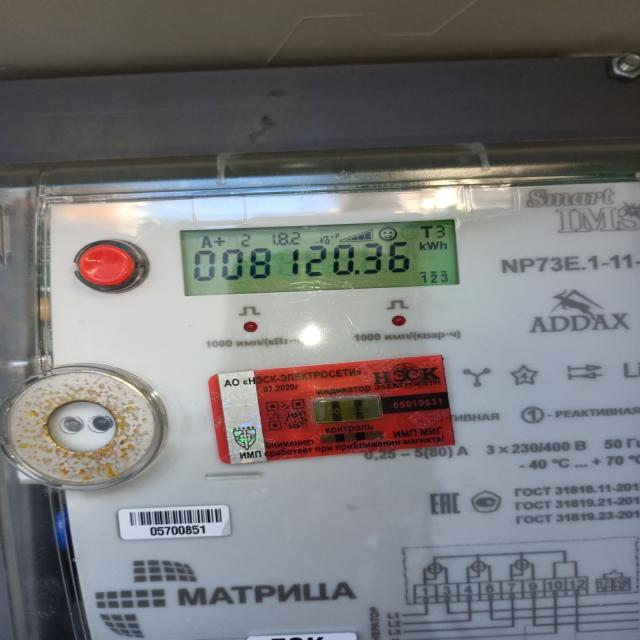Display: (178, 218, 464, 296)
meter_matrica: (26, 183, 640, 640)
meter_number: (113, 505, 235, 540)
seal_imp: (209, 358, 454, 465)
